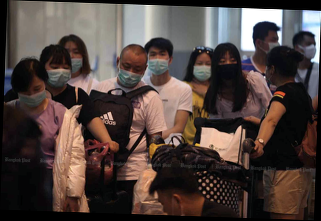mask_weared_incorrect: (61, 46, 85, 76), (156, 191, 181, 215)
with_mask: (17, 82, 48, 109), (116, 61, 144, 89), (45, 63, 73, 89), (214, 56, 239, 84), (146, 49, 170, 76), (193, 60, 213, 83), (266, 35, 281, 57), (301, 40, 317, 59)
